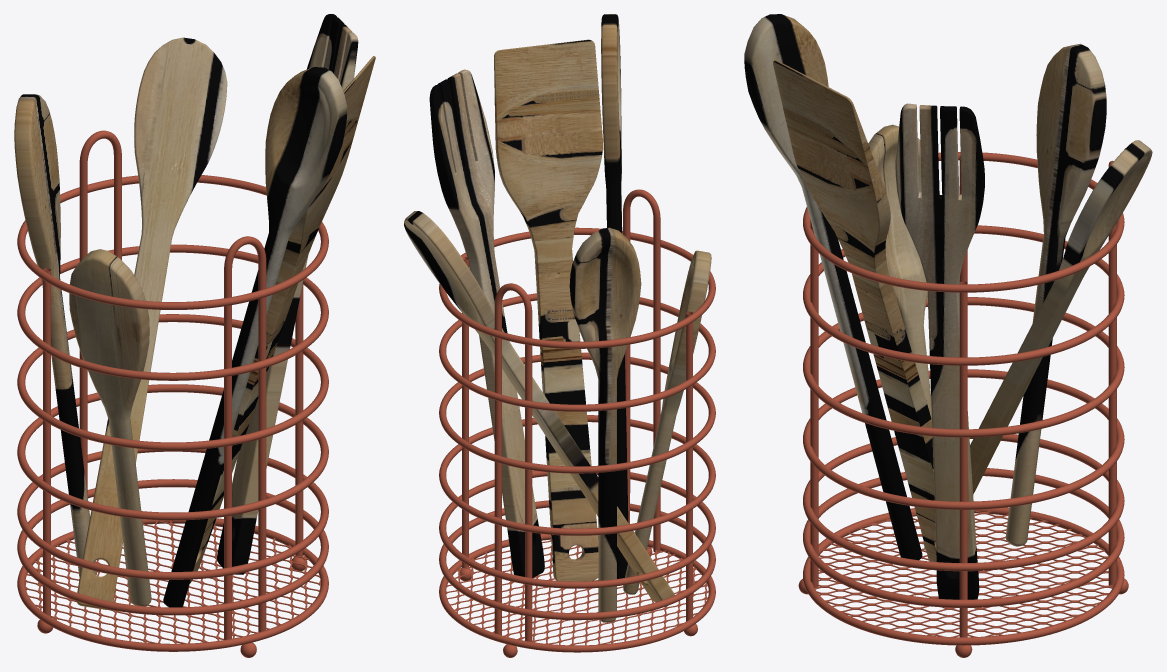
Rendered from Wooden Spoons.fbx.
3 renders of one model, left to right at view 1: azimuth 30°, elevation 25°; view 2: azimuth 150°, elevation 25°; view 3: azimuth 270°, elevation 25°, orthographic. The views are drawn at different scales.
Parts seen in each view (by area): view 1: BezierCircle, Cube.004, Cube.005, Cube.003, Cube.006, Cube.002, Cube.001; view 2: BezierCircle, Cube.001, Cube.002, Cube.006, Cube.004, Cube.005, Cube.003; view 3: BezierCircle, Cube.001, Cube.002, Cube.006, Cube.005, Cube.004, Cube.003.
Boxes of the visible parts, x1,y1,x2,y2 form: BezierCircle: (17,130,328,657); Cube.004: (76,37,227,609); Cube.005: (163,67,347,607); Cube.003: (69,249,151,606); Cube.006: (14,94,97,576); Cube.002: (217,14,358,574); Cube.001: (189,56,375,583); BezierCircle: (439,189,715,657); Cube.001: (494,39,602,581); Cube.002: (429,69,544,577); Cube.006: (569,227,641,622); Cube.004: (404,211,674,606); Cube.005: (601,14,628,578); Cube.003: (623,250,711,594); BezierCircle: (798,152,1128,657); Cube.001: (773,60,936,561); Cube.002: (895,103,984,599); Cube.006: (1005,43,1106,546); Cube.005: (744,14,922,560); Cube.004: (970,140,1152,494); Cube.003: (868,124,931,550).
Size of the model in its own units: 58.3 by 110 by 67.1.
Materials: 2 (1 with a texture image).
